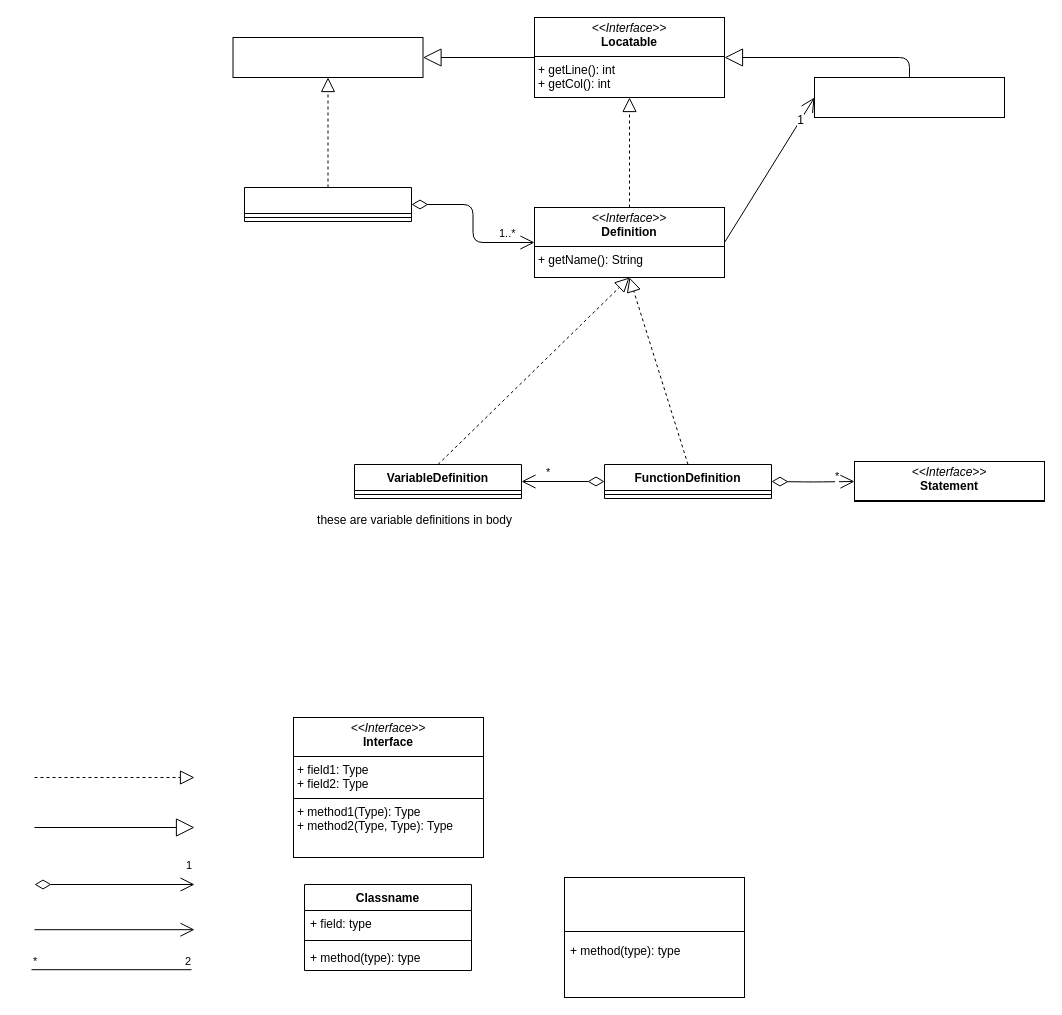
The diagram is 1062 pixels wide and 1015 high, and some of its shapes have lost their labels. Here are the shapes that lost their labels. From the top down, the box of each, then its label:
(232, 36, 423, 78): <<Interface>> ASTNode
(814, 76, 1004, 118): <<Interface>> Type
(244, 186, 412, 222): Program
(564, 876, 744, 998): «interface» InterfaceName
